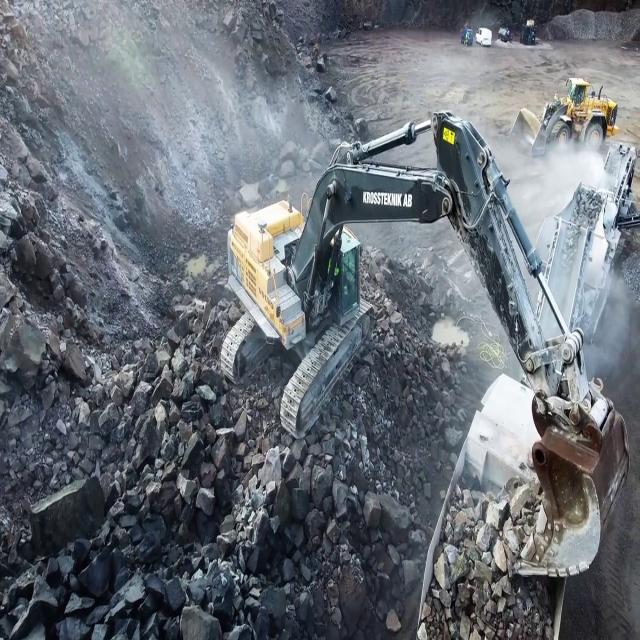excavator: (212, 112, 629, 592)
